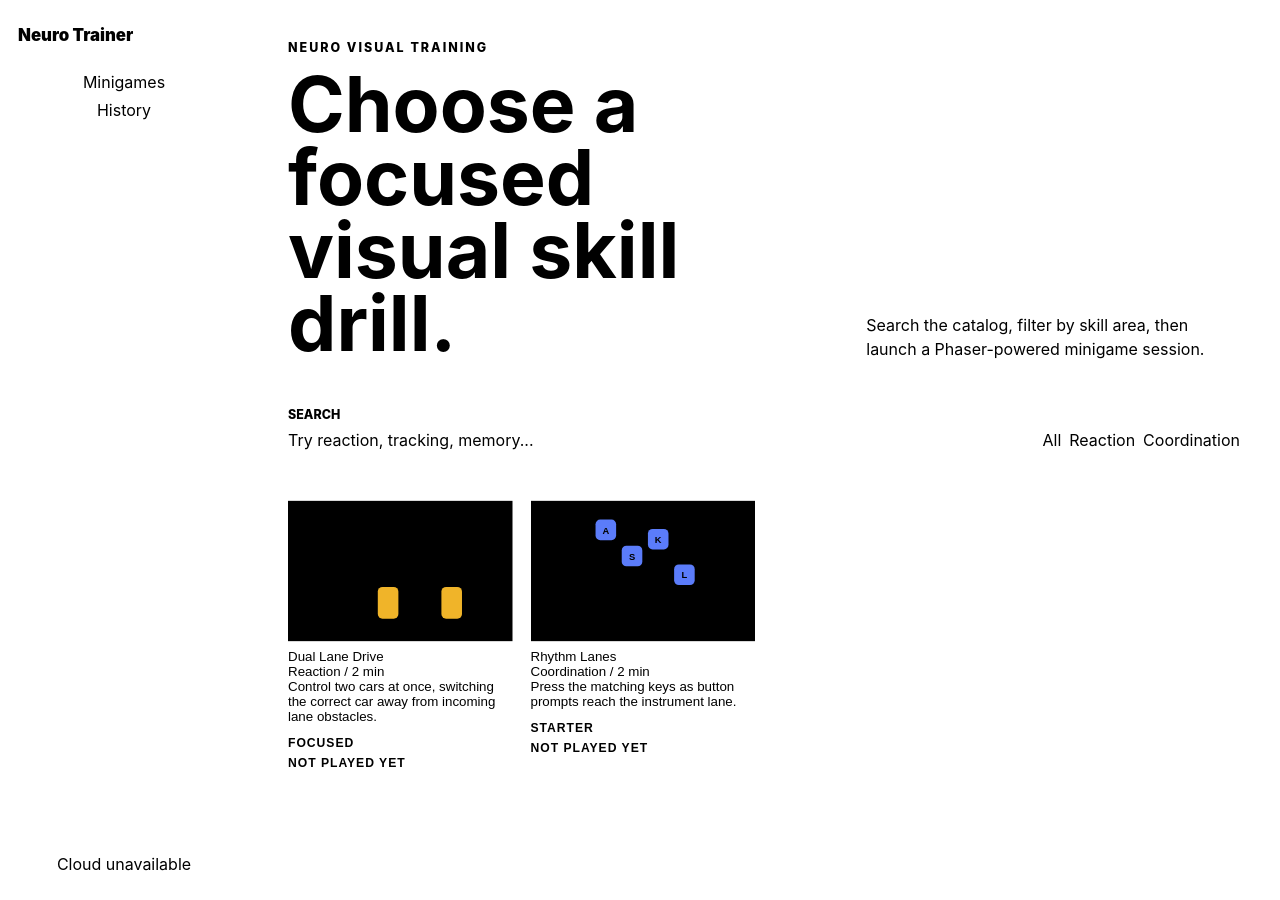
frontend user flows › lets a user browse, filter, search, and recover from empty catalog results
Expected: the heading "Choose a focused visual skill drill." is shown, [288,58,679,370]
Expected: the button "Dual Lane Drive" is shown, [288,496,513,856]
Type "rhythm" into the search field with placeholder "Try reaction, tracking, memory...".
click(498, 440); type("rhythm")  # box [288,430,708,450]
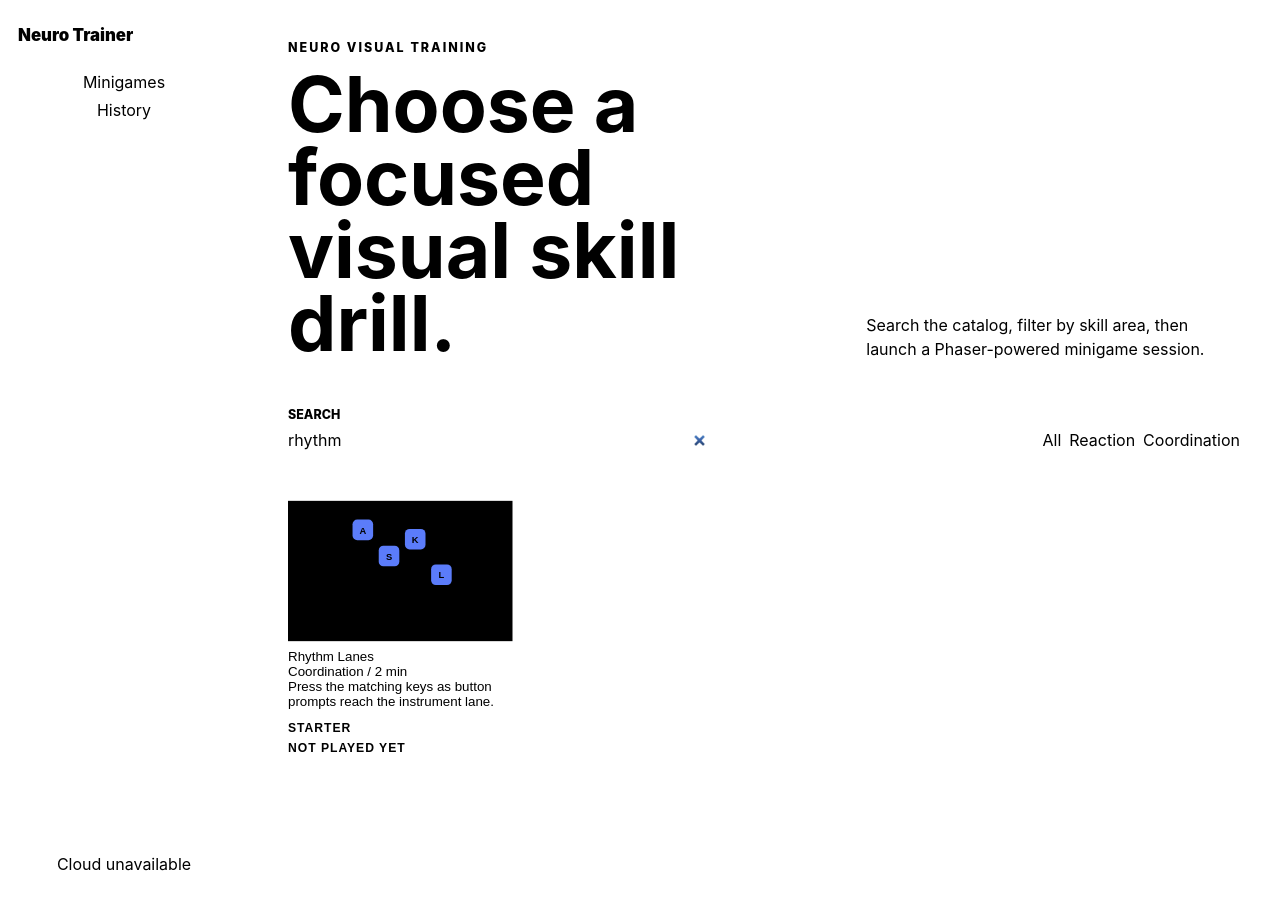
Expected: the button "Rhythm Lanes" is shown, [288,496,513,856]
Result: the button "Dual Lane Drive" is gone
Replace the text in the search field with placeholder "Try reaction, tracking, memory..." with "not a drill" at (498, 440), box [288,430,708,450]
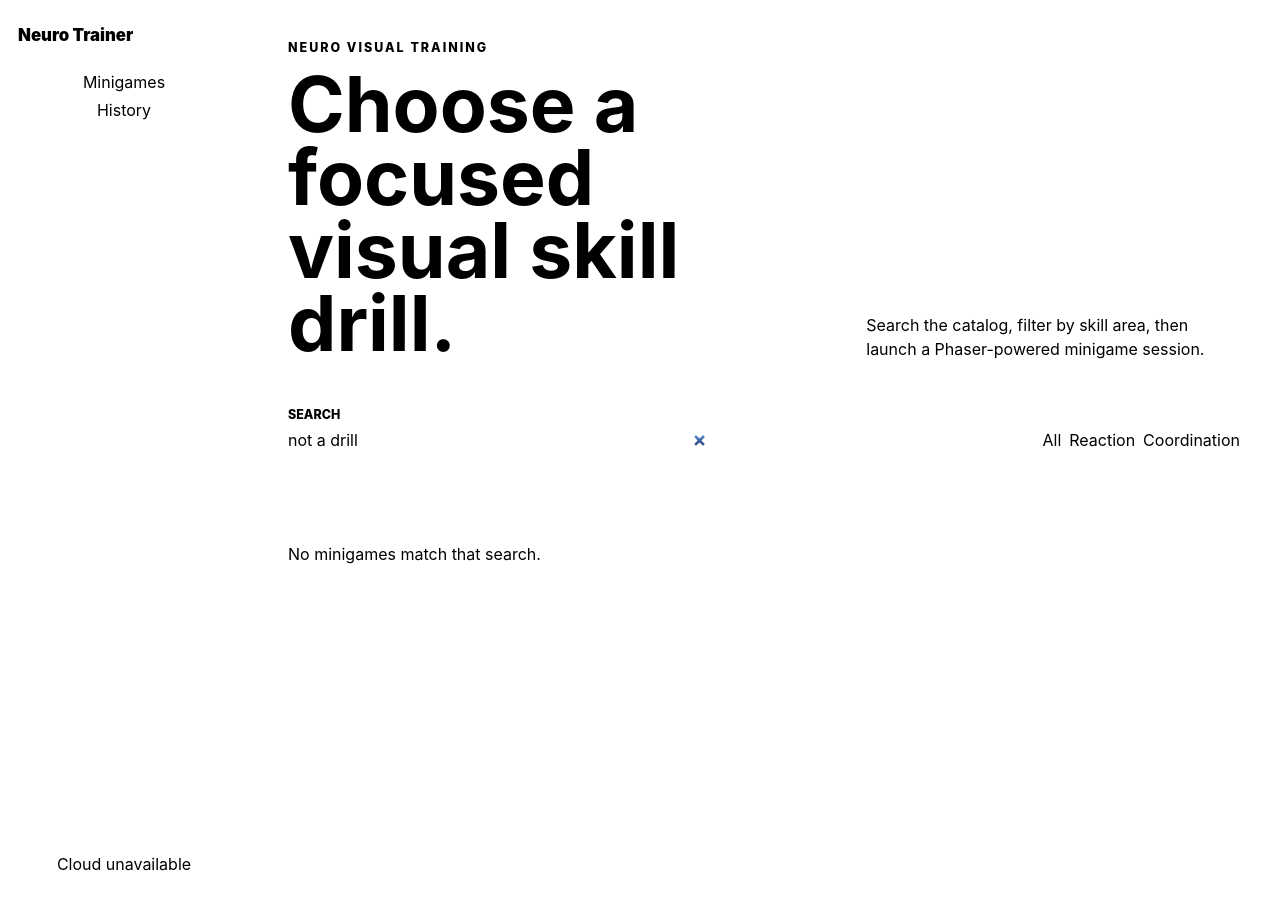
Result: the text "No minigames match that search." is shown at [288,544,541,564]
Clear the search field with placeholder "Try reaction, tracking, memory..." at (498, 440), box [288,430,708,450]
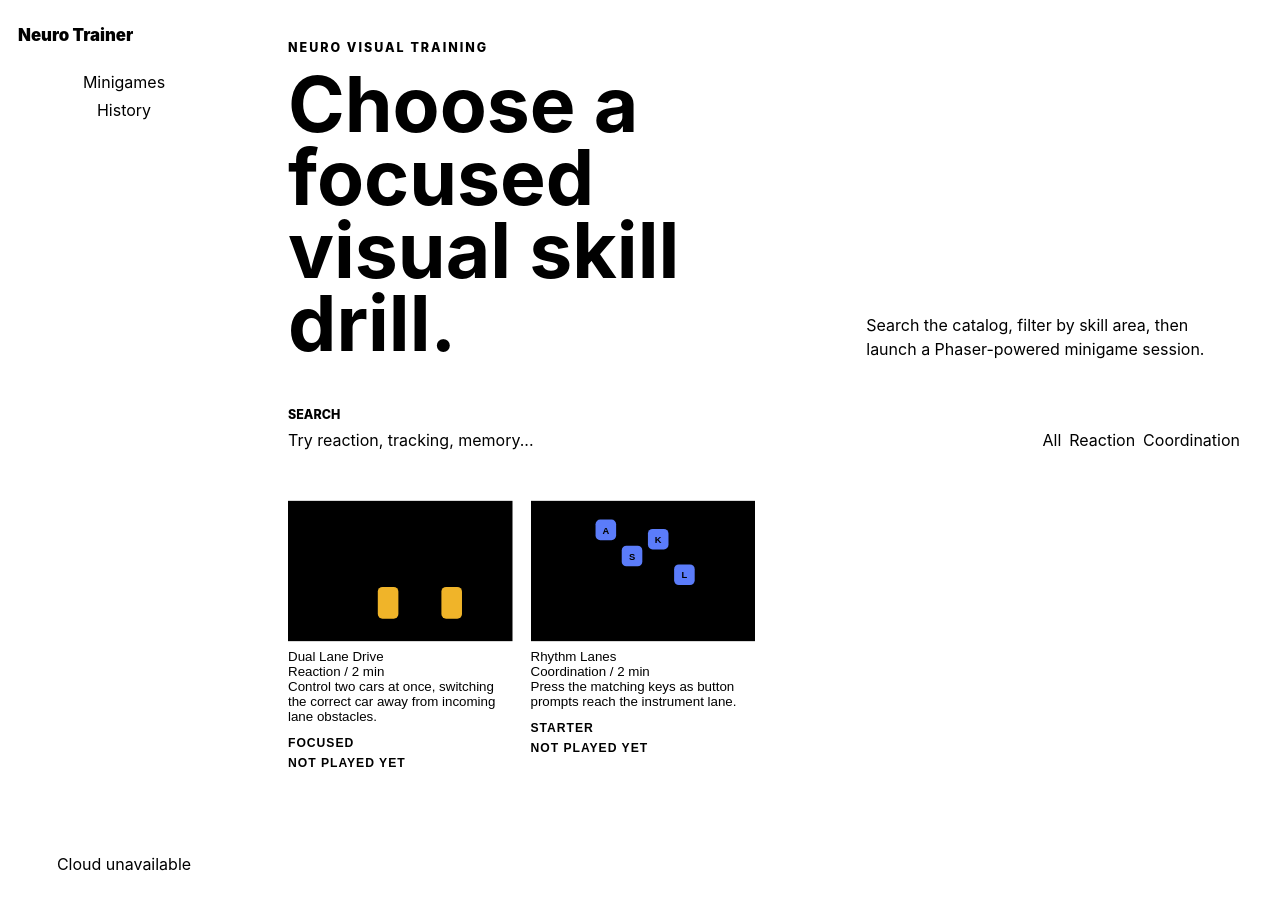
Click the button "Reaction".
click(1102, 440)  # box [1069,430,1135,450]
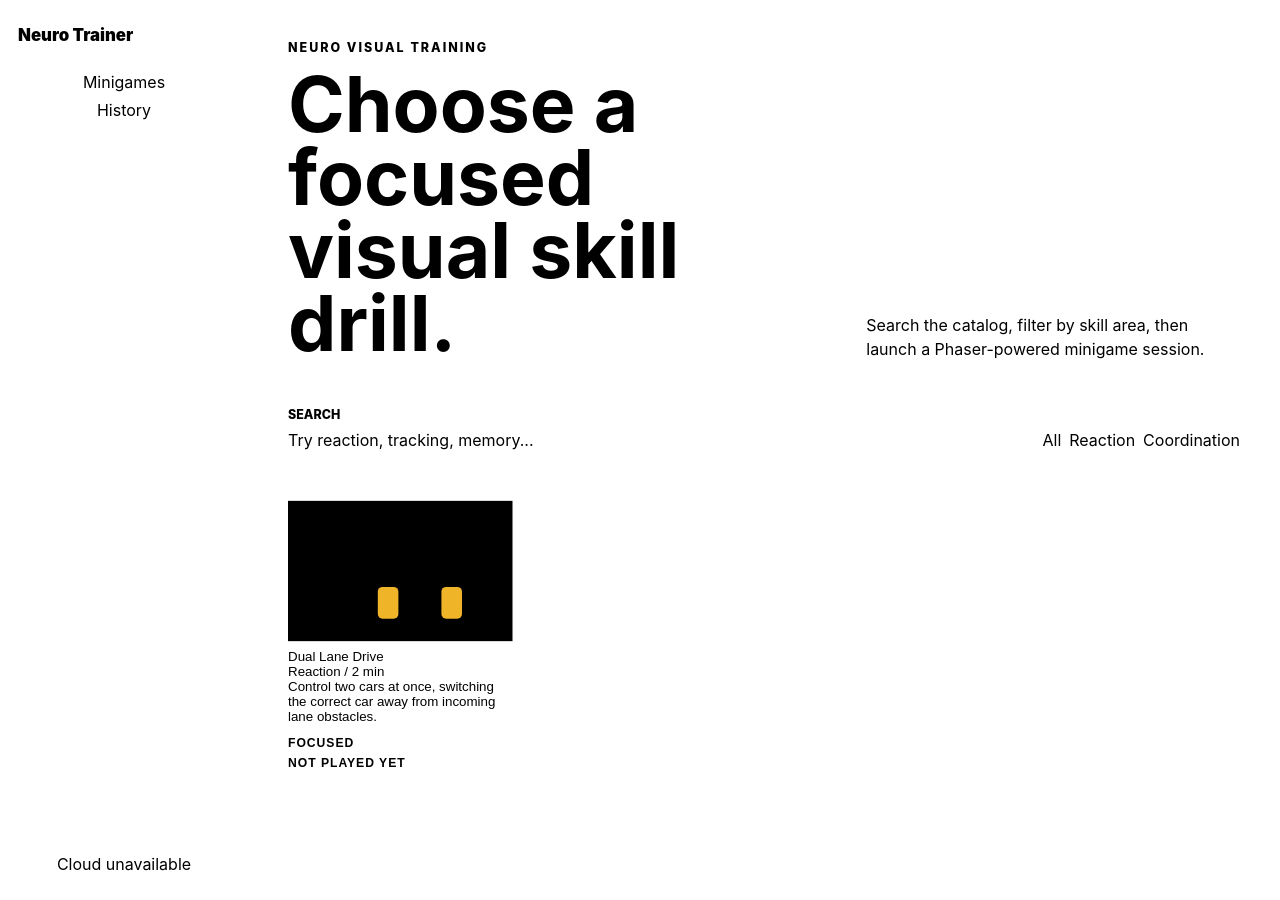
Result: the button "Dual Lane Drive" is shown at [288,496,513,856]
Result: the button "Rhythm Lanes" is gone
Click the button "All".
click(1053, 440)  # box [1043,430,1062,450]
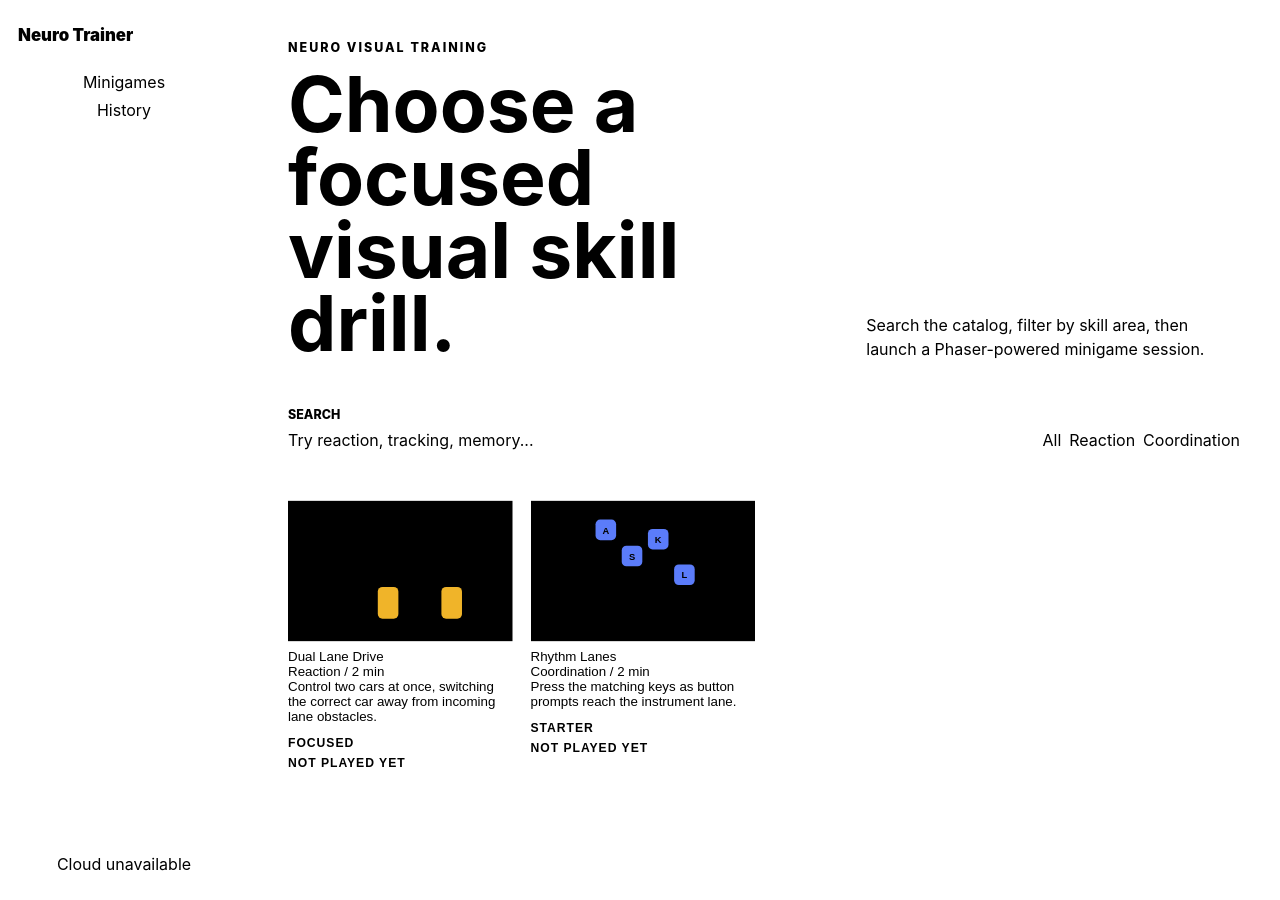
Expected: the heading "Choose a focused visual skill drill." is shown, [288,58,679,370]
Result: the button "Dual Lane Drive" is shown at [288,496,513,856]
Result: the button "Rhythm Lanes" is shown at [531,496,756,856]
